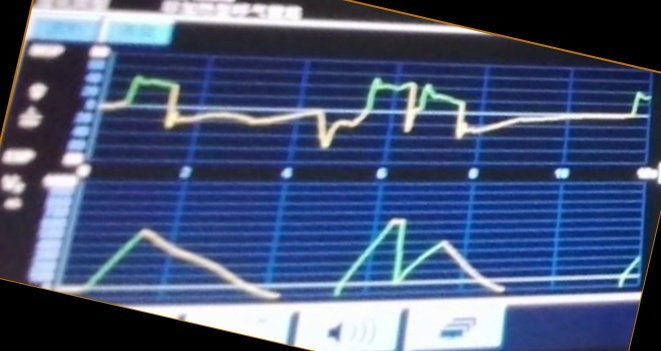Double_Triggering Flow: (106, 75, 648, 151)
Double_Triggering Volume: (76, 213, 641, 293)
